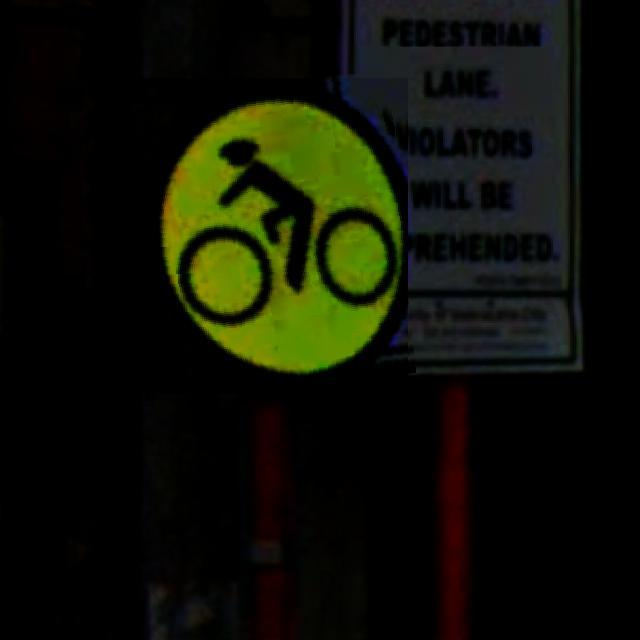bike lane: (122, 78, 408, 394)
